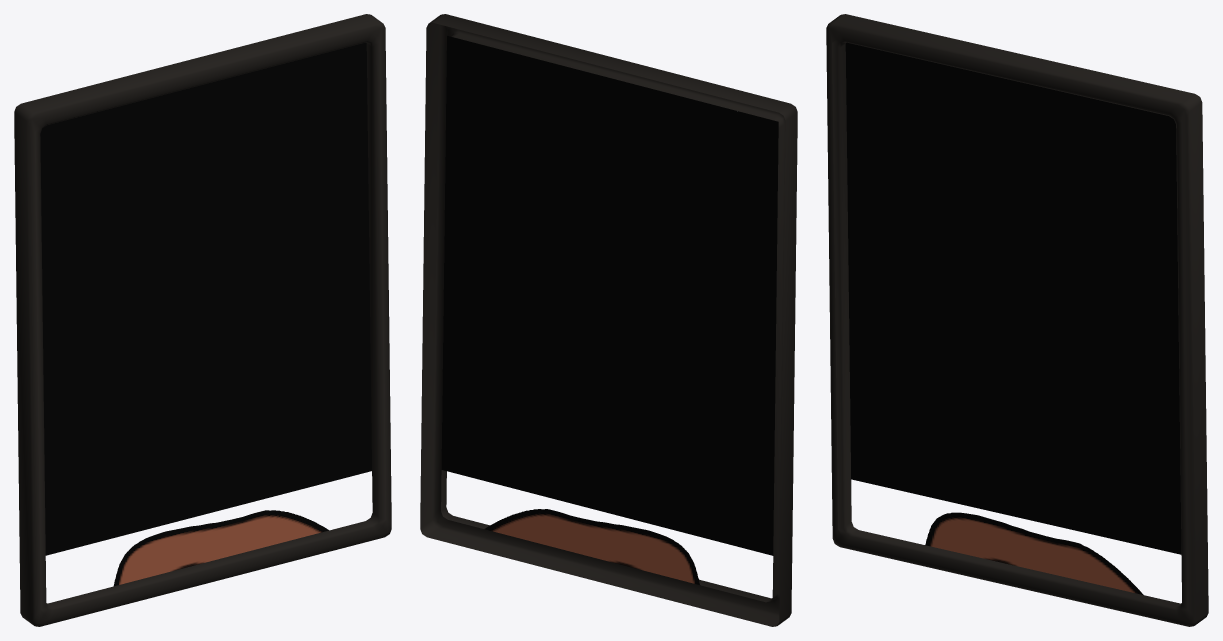
Rendered from Poster Foxy.fbx.
3 renders of one model, left to right at view 1: azimuth 30°, elevation 25°; view 2: azimuth 150°, elevation 25°; view 3: azimuth 330°, elevation 25°, orthographic.
Parts seen in each view (by area): view 1: Poster Foxy; view 2: Poster Foxy; view 3: Poster Foxy.
Part boxes in pixels (x1,y1,x2,y2): Poster Foxy: (14,14,391,626); Poster Foxy: (420,14,797,626); Poster Foxy: (826,14,1208,626).
Bounding box in the file's own units: 75.1 × 102 × 4.85.
